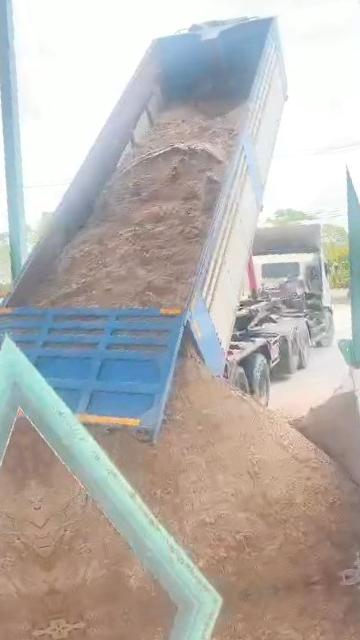sand: (94, 340, 360, 599), (33, 98, 241, 307), (22, 420, 173, 629)
